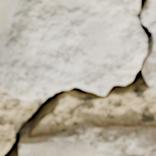brick: (20, 125, 155, 155)
broken_brick: (0, 0, 145, 100), (142, 0, 155, 89)
crack: (2, 0, 154, 155)
